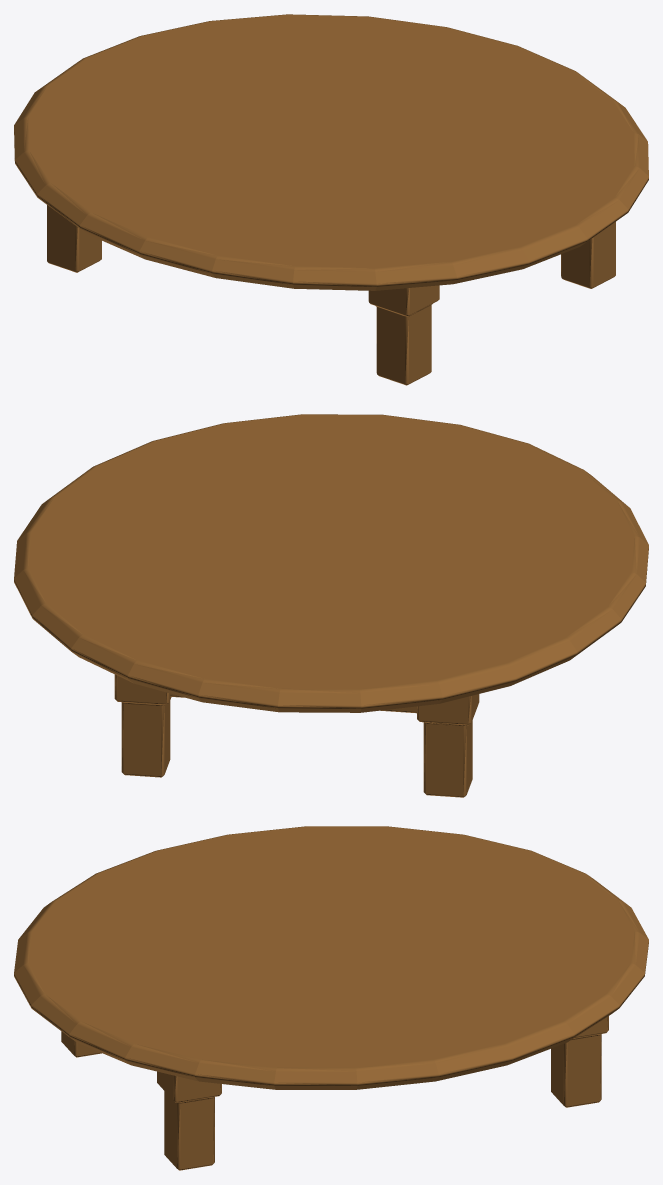
File: mejaBulat.obj
The picture shows the model from 3 angles, top to bottom: view 1: azimuth 30°, elevation 25°; view 2: azimuth 150°, elevation 25°; view 3: azimuth 270°, elevation 25°; orthographic projection. The views are drawn at different scales.
Visible parts, largest first — view 1: Coffe_table_Cube.024; view 2: Coffe_table_Cube.024; view 3: Coffe_table_Cube.024.
Part boxes in pixels (box(x1,y1,x2,y2)): Coffe_table_Cube.024: box(14, 14, 648, 385); Coffe_table_Cube.024: box(14, 414, 648, 797); Coffe_table_Cube.024: box(14, 826, 648, 1170).
Bounding box in the file's own units: 2.05 × 0.4777 × 2.18.
